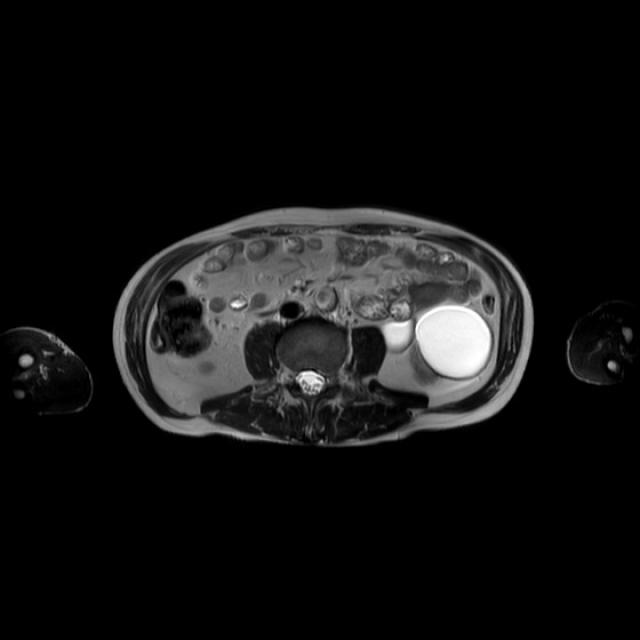sag: (197, 361, 214, 374)
sol: (383, 305, 494, 385)
